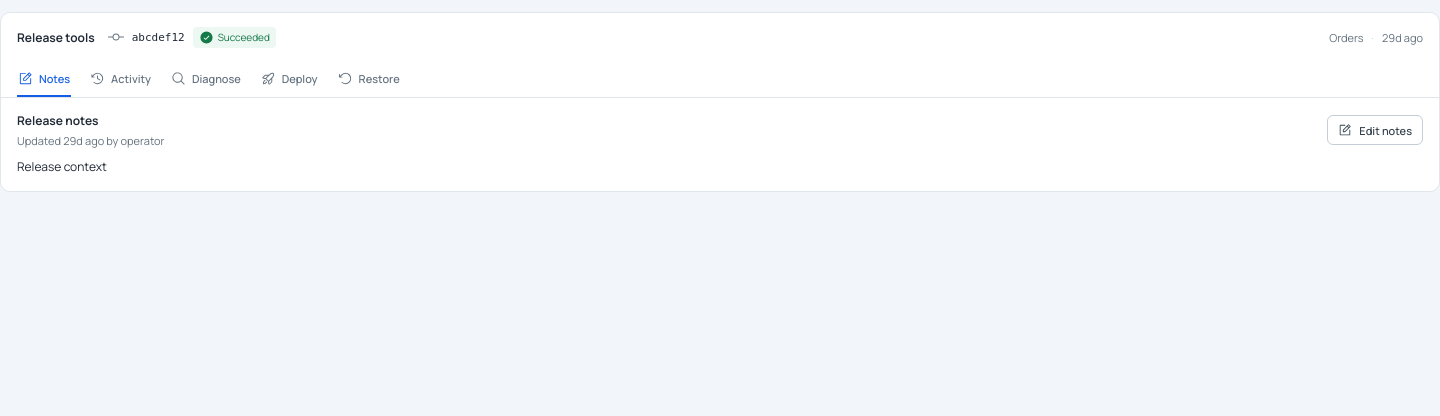
Test: release workbench › edits notes on demand and cancels a draft without saving it
Step 1. Click the button "Edit notes" → (1375, 130), box 1327,116 -> 1423,146
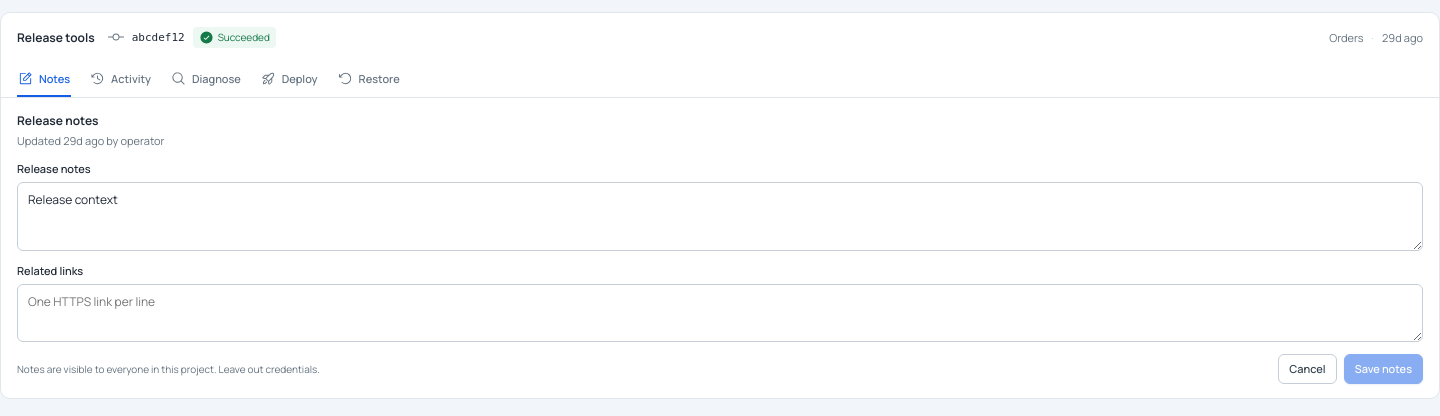
Step 2. Replace the text in the text box labelled "Release notes" with "Discard this draft" → (720, 216), box 17,182 -> 1423,251
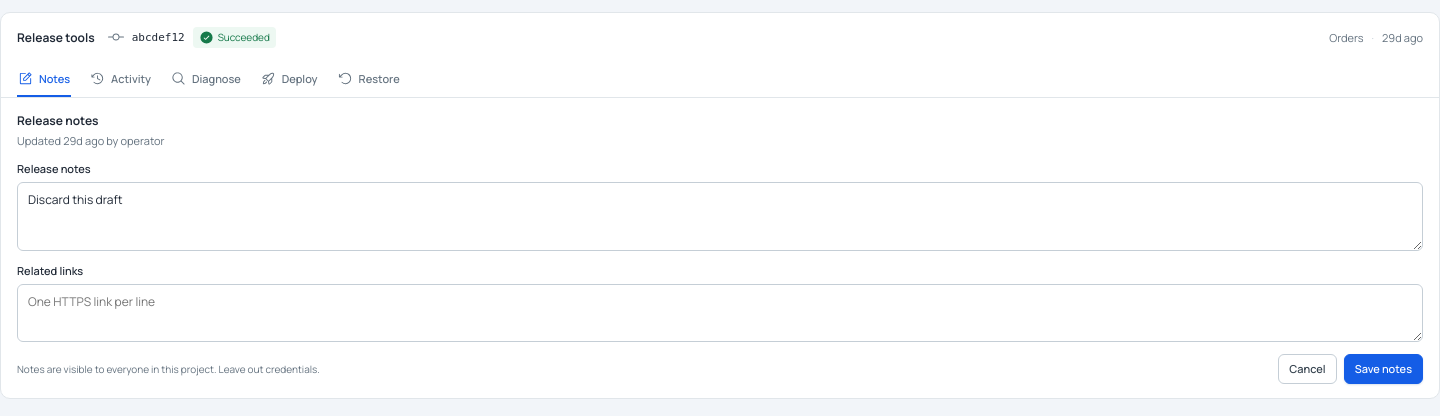
Step 3. Click the button "Cancel" → (1308, 369), box 1278,354 -> 1337,384
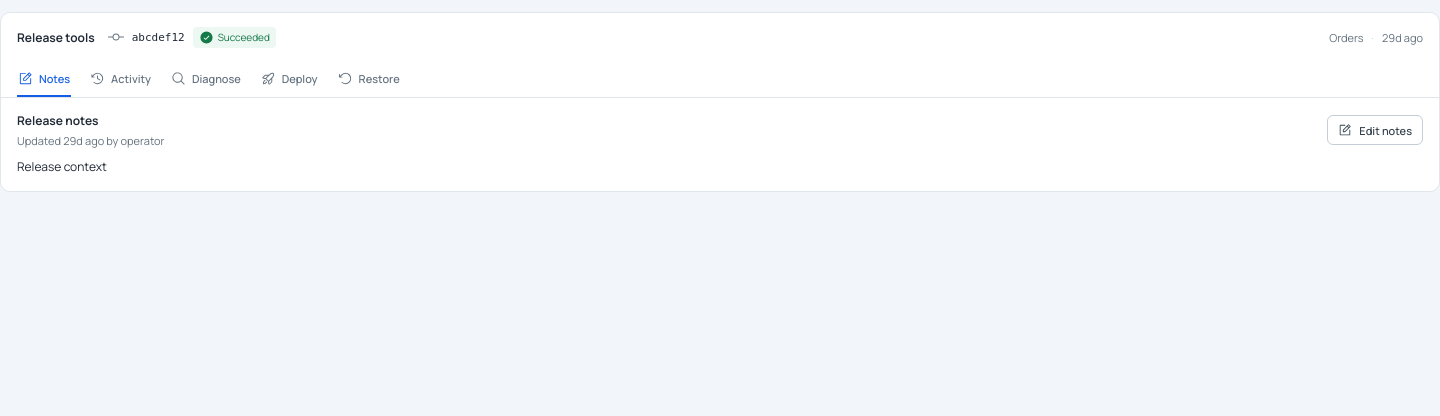
Result: the text "Release context" is shown at 17,158 -> 107,175
Step 4. Click the button "Edit notes" → (1375, 130), box 1327,116 -> 1423,146
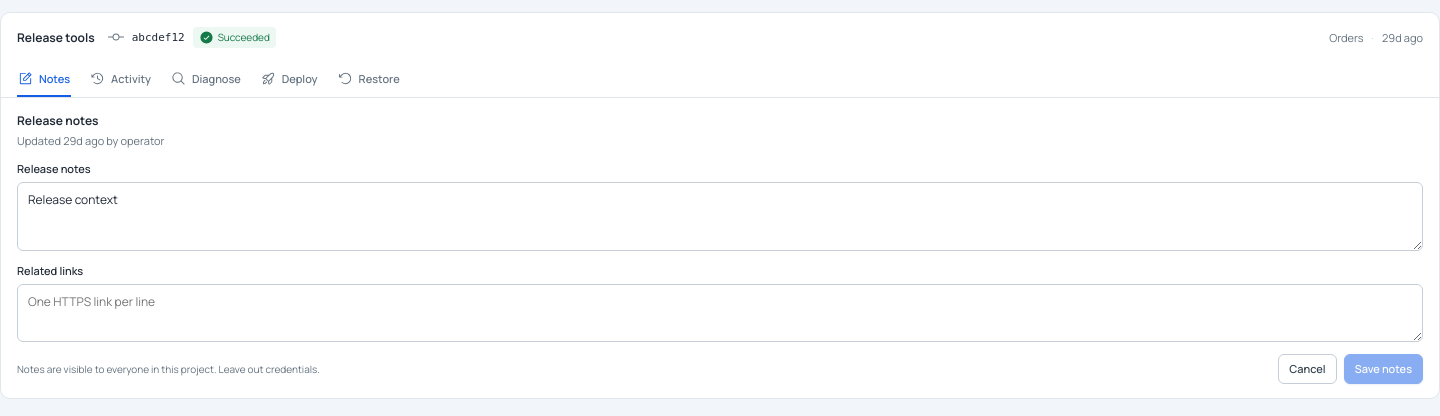
Result: the text box labelled "Release notes" holds "Release context"
Result: the button "Save notes" is disabled at 1344,354 -> 1423,384
Step 5. Replace the text in the text box labelled "Release notes" with "New release notes" → (720, 216), box 17,182 -> 1423,251
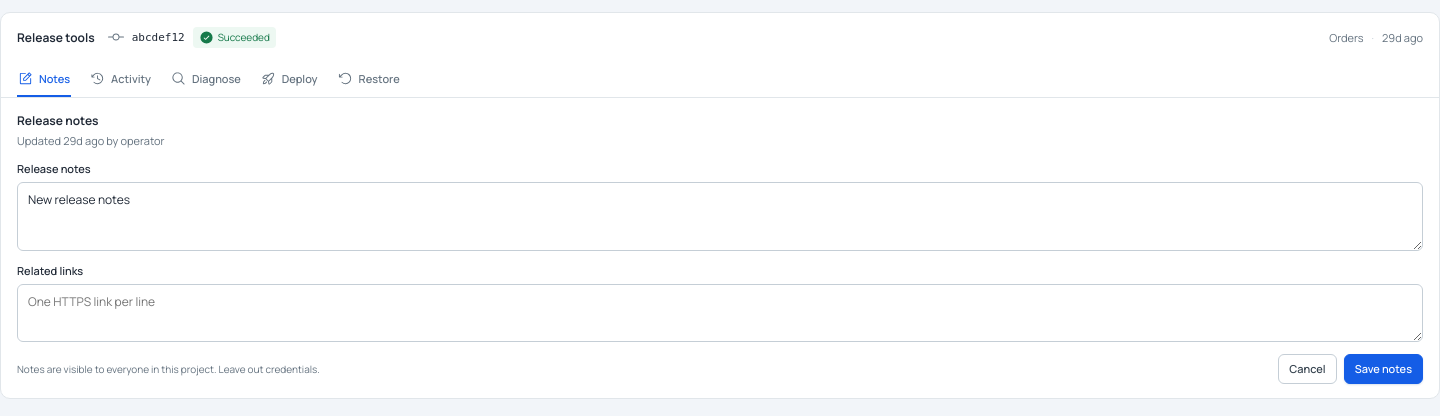
Step 6. Click the button "Save notes" → (1383, 369), box 1344,354 -> 1423,384
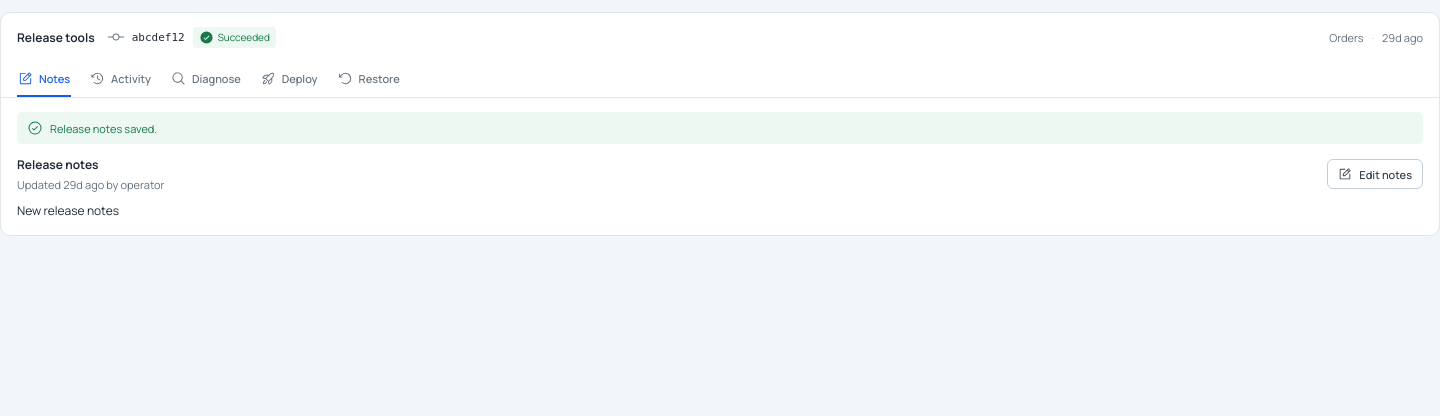
Result: the text "Release notes saved." is shown at 17,112 -> 1423,144
Result: the text "New release notes" is shown at 17,202 -> 119,219
